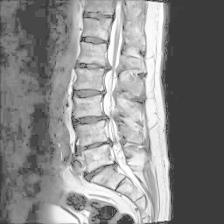disc: (80, 6, 118, 26), (78, 33, 112, 46)
hdisc: (77, 159, 120, 181), (68, 112, 113, 129), (69, 84, 109, 103), (72, 57, 113, 74), (68, 138, 116, 152)
